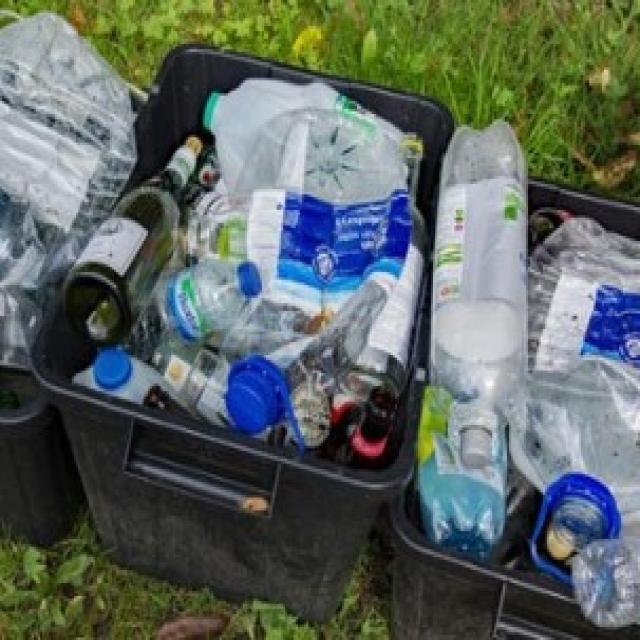electronic: (62, 128, 209, 350), (344, 376, 396, 482)
